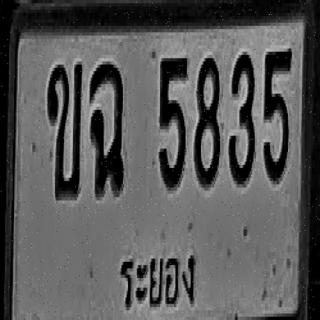A02: (48, 61, 82, 197)
A09: (90, 62, 124, 194)
N03: (229, 52, 255, 184)
N05: (159, 55, 187, 188), (263, 48, 291, 181)
N08: (195, 55, 220, 184)
P53: (105, 224, 209, 320)
